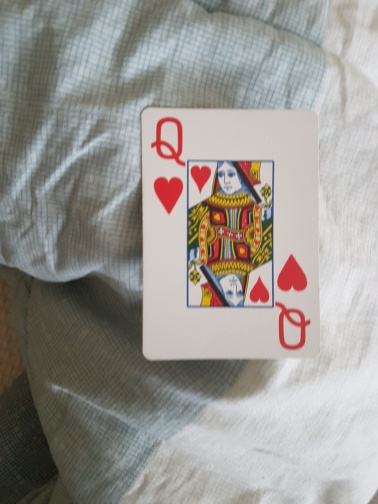queen: (142, 107, 322, 361)
